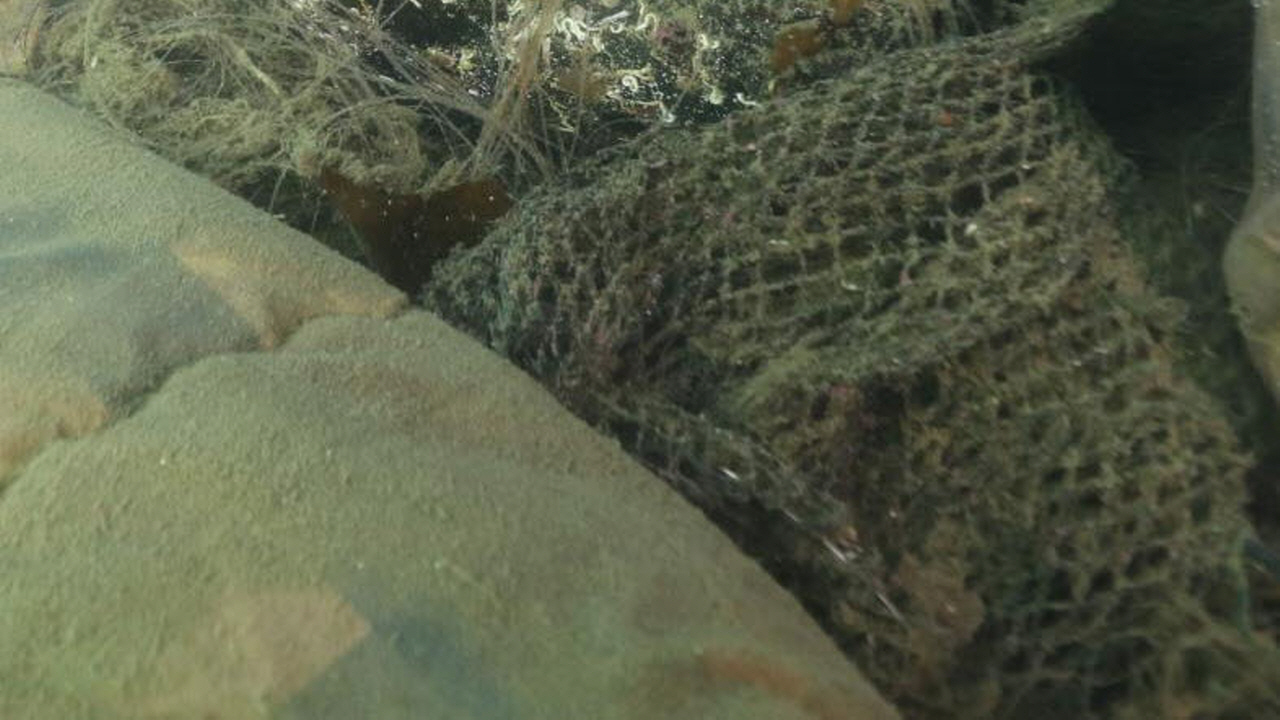fish net: (414, 0, 1280, 720)
